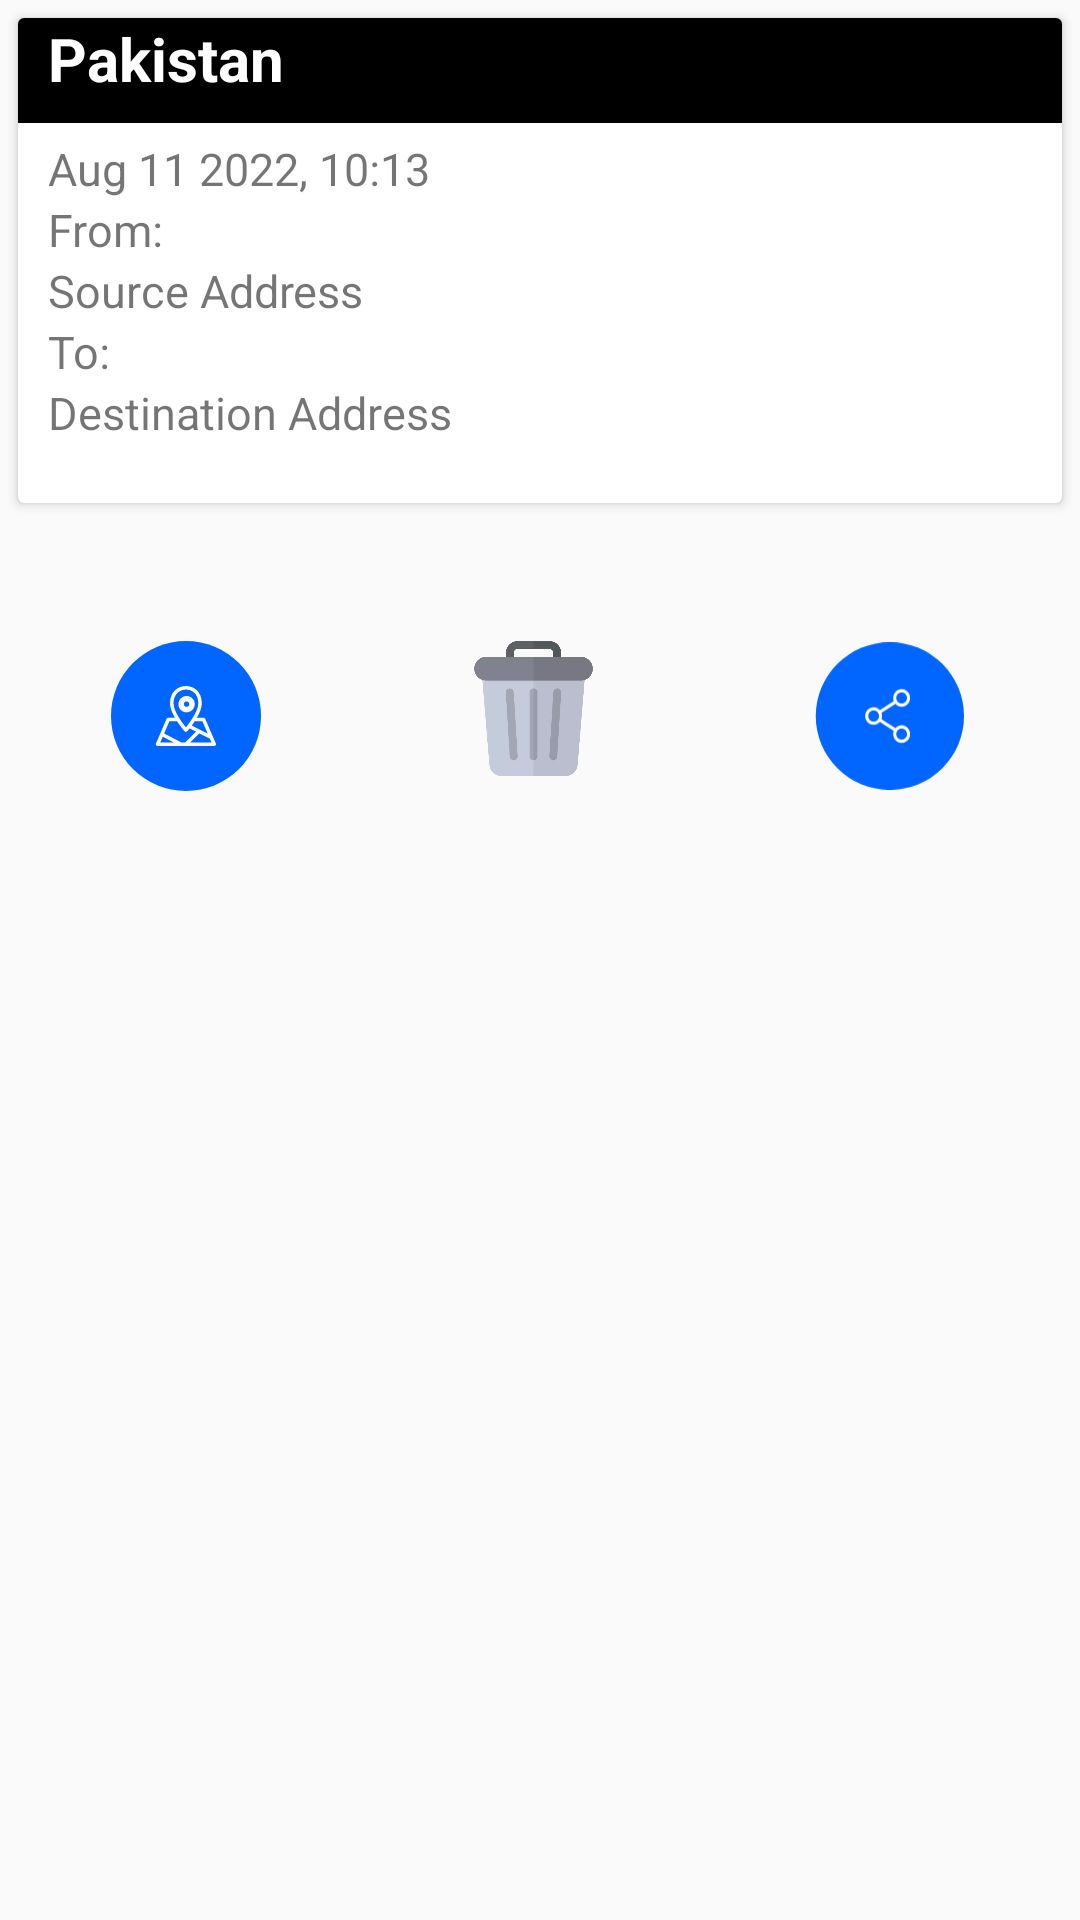

Where icons sit on this 1080px×1920px app screen, as (x1, y1, x2, y2):
bin: (474, 641, 593, 776)
mapbtn: (111, 641, 261, 791)
sharebtn: (815, 642, 964, 790)
